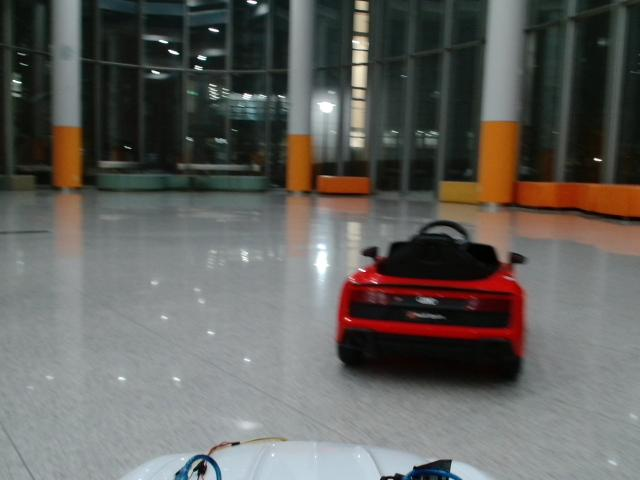car: (337, 221, 526, 380)
